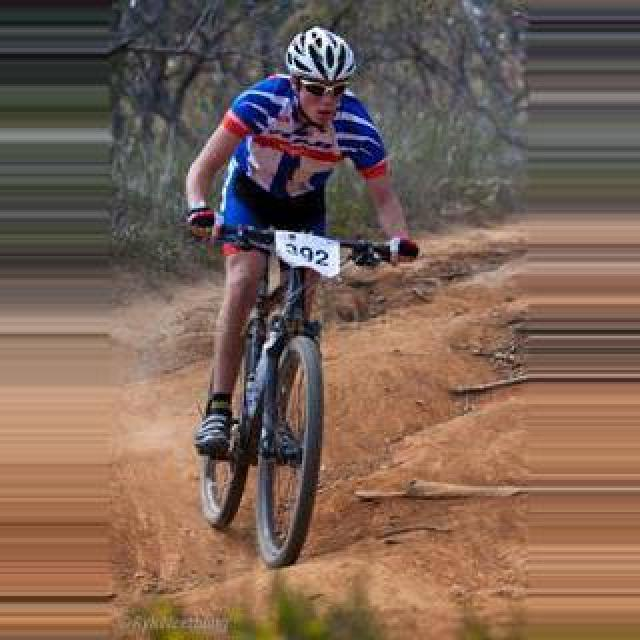MC-Bike: (186, 18, 412, 546)
Person: (186, 201, 420, 565)
